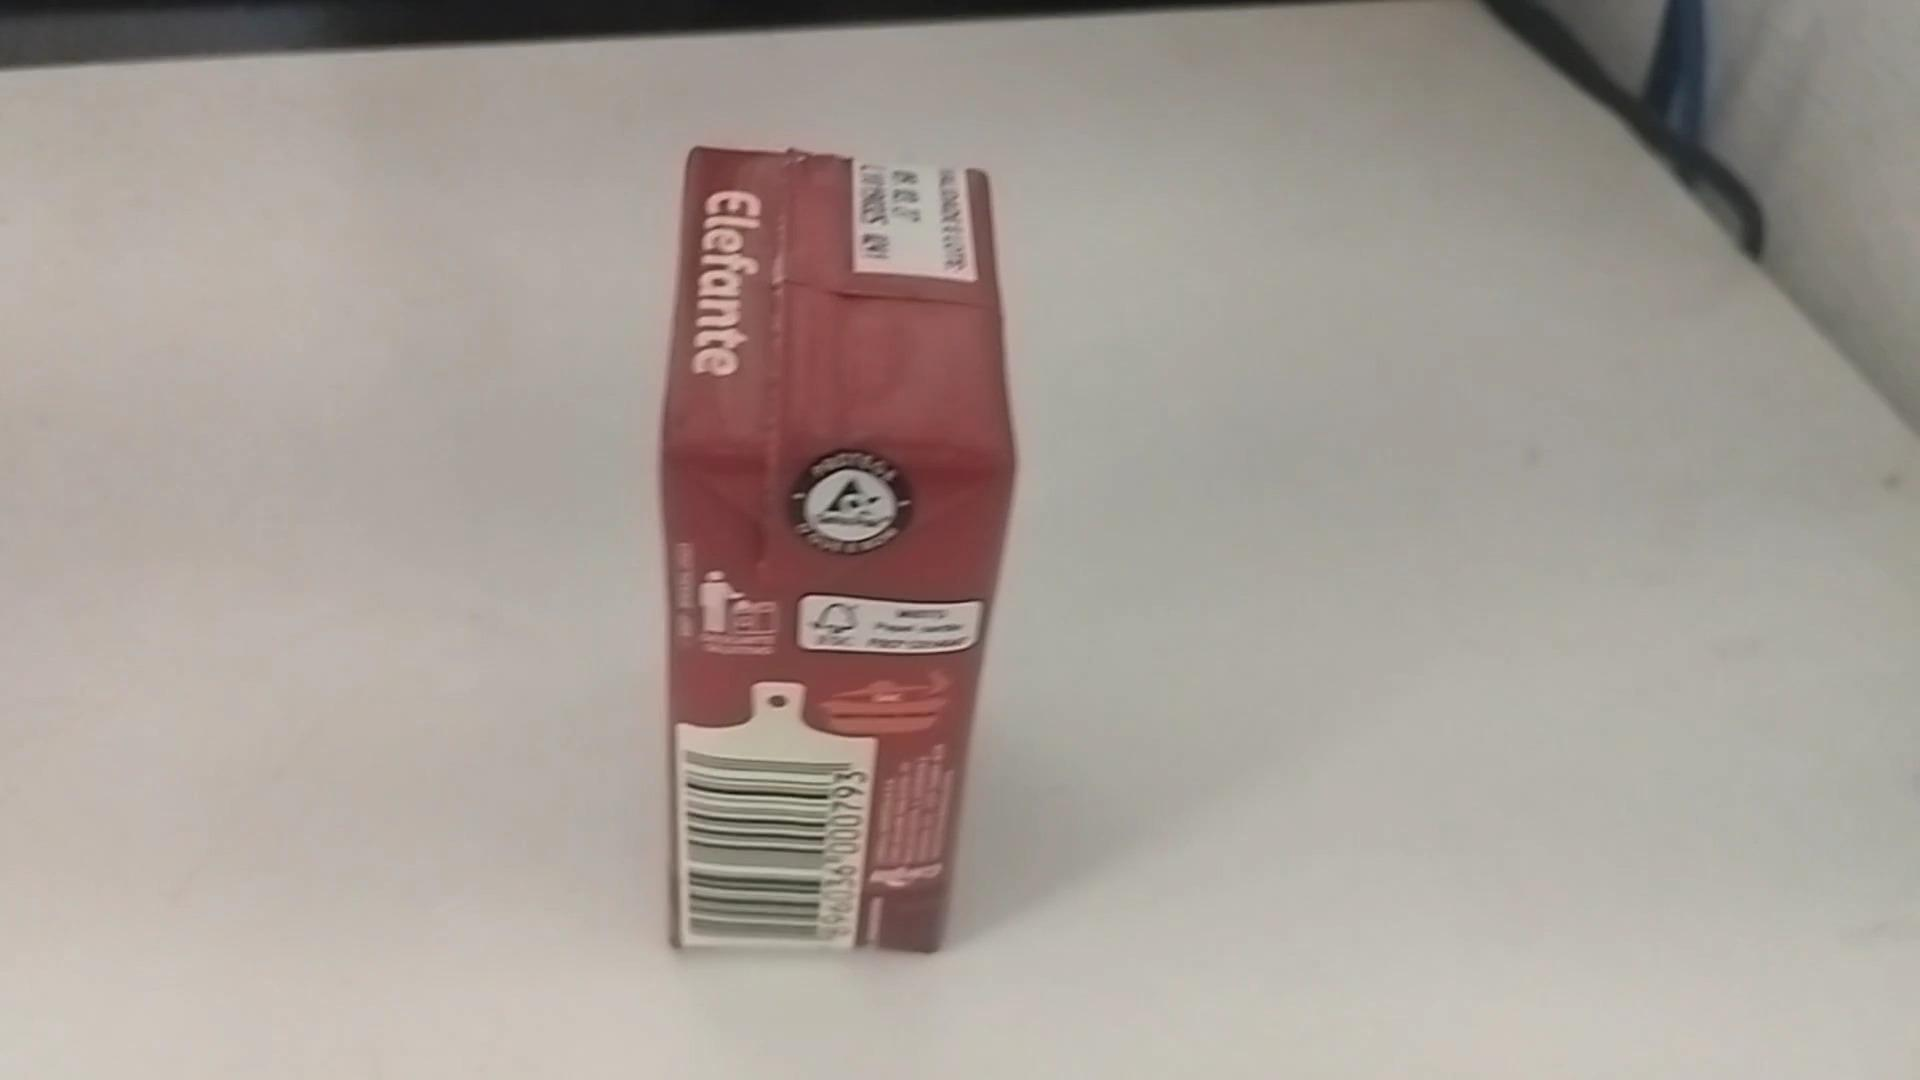tomate: (651, 141, 1030, 968)
